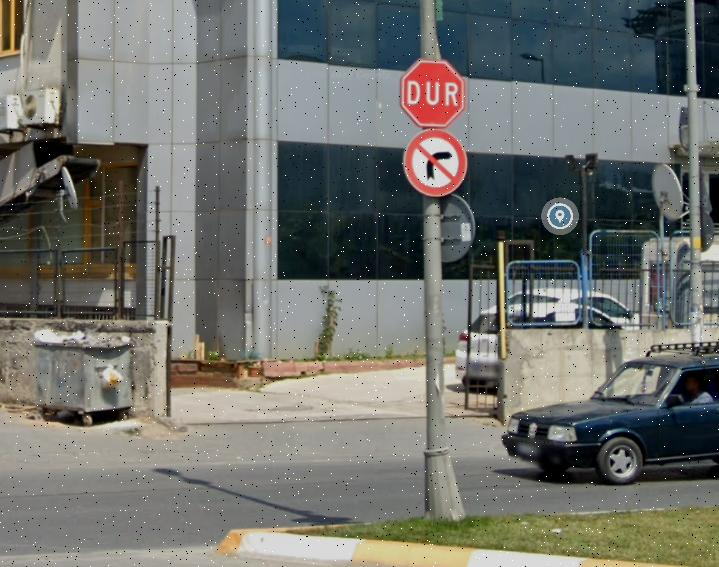rightturnsareforbidden: (405, 136, 466, 196)
stop: (400, 58, 462, 128)
